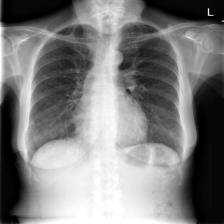normal: (23, 19, 187, 173)
